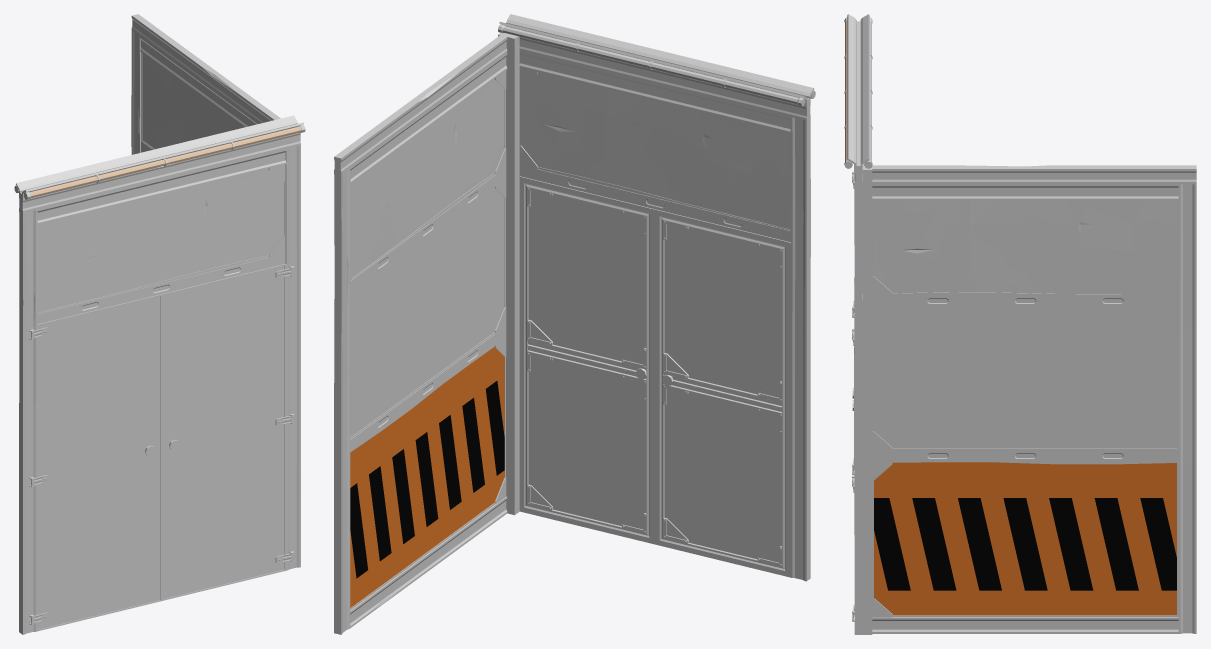
The model's file is SM_Wall_Angle_Door_01.glb.
3 views of the same model, side by side, from view 1: azimuth 30°, elevation 25°; view 2: azimuth 150°, elevation 25°; view 3: azimuth 270°, elevation 25° (orthographic). The views are drawn at different scales.
Visible parts, largest first — view 1: SM_Wall_Angle_Door_01, SM_Door_Angle_Right_For_Wall_Door_01, SM_Door_Angle_Left_For_Wall_Door_01; view 2: SM_Wall_Angle_Door_01, SM_Door_Angle_Left_For_Wall_Door_01, SM_Door_Angle_Right_For_Wall_Door_01; view 3: SM_Wall_Angle_Door_01.
Boxes of the visible parts, x1=… form: SM_Wall_Angle_Door_01: x1=14, y1=14, x2=305, y2=634; SM_Door_Angle_Right_For_Wall_Door_01: x1=161, y1=264, x2=293, y2=600; SM_Door_Angle_Left_For_Wall_Door_01: x1=31, y1=294, x2=161, y2=631; SM_Wall_Angle_Door_01: x1=334, y1=14, x2=815, y2=634; SM_Door_Angle_Left_For_Wall_Door_01: x1=653, y1=209, x2=790, y2=577; SM_Door_Angle_Right_For_Wall_Door_01: x1=519, y1=176, x2=654, y2=544; SM_Wall_Angle_Door_01: x1=844, y1=14, x2=1196, y2=634.
Bounding box in the file's own units: 2 × 3.07 × 2.06.
